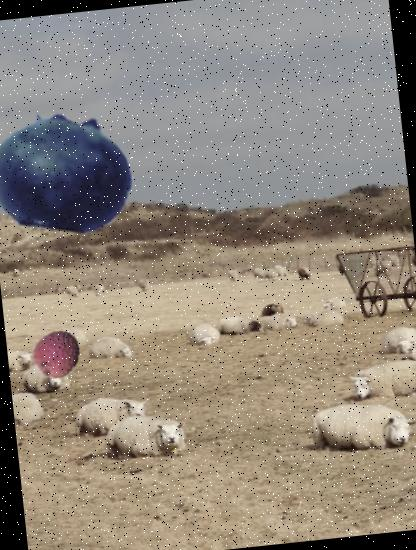Huckleberry: (0, 94, 140, 252)
Lychee: (28, 326, 85, 383)
